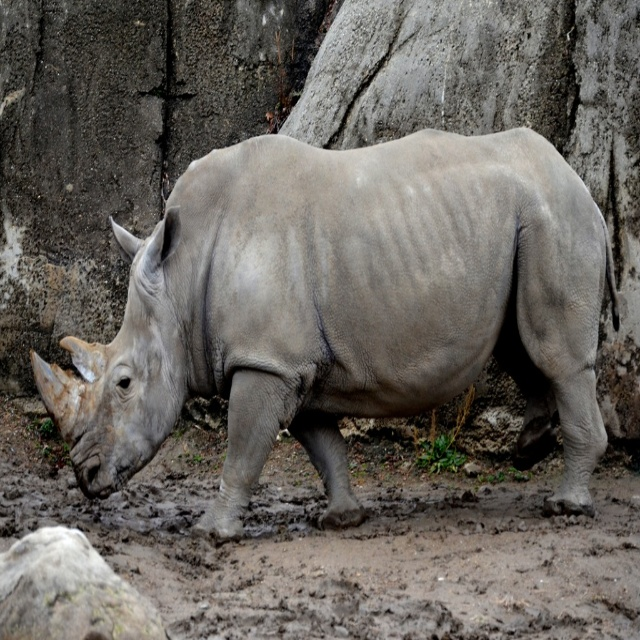Rhinoceros: (29, 120, 622, 551)
